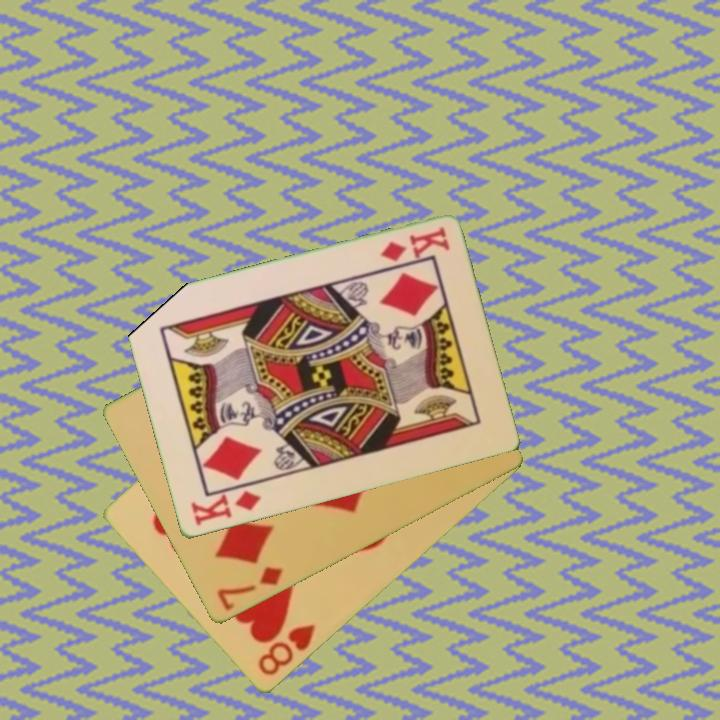7d: (213, 563, 286, 615)
8h: (254, 620, 318, 680)
Kd: (187, 487, 264, 530), (376, 224, 452, 265)
